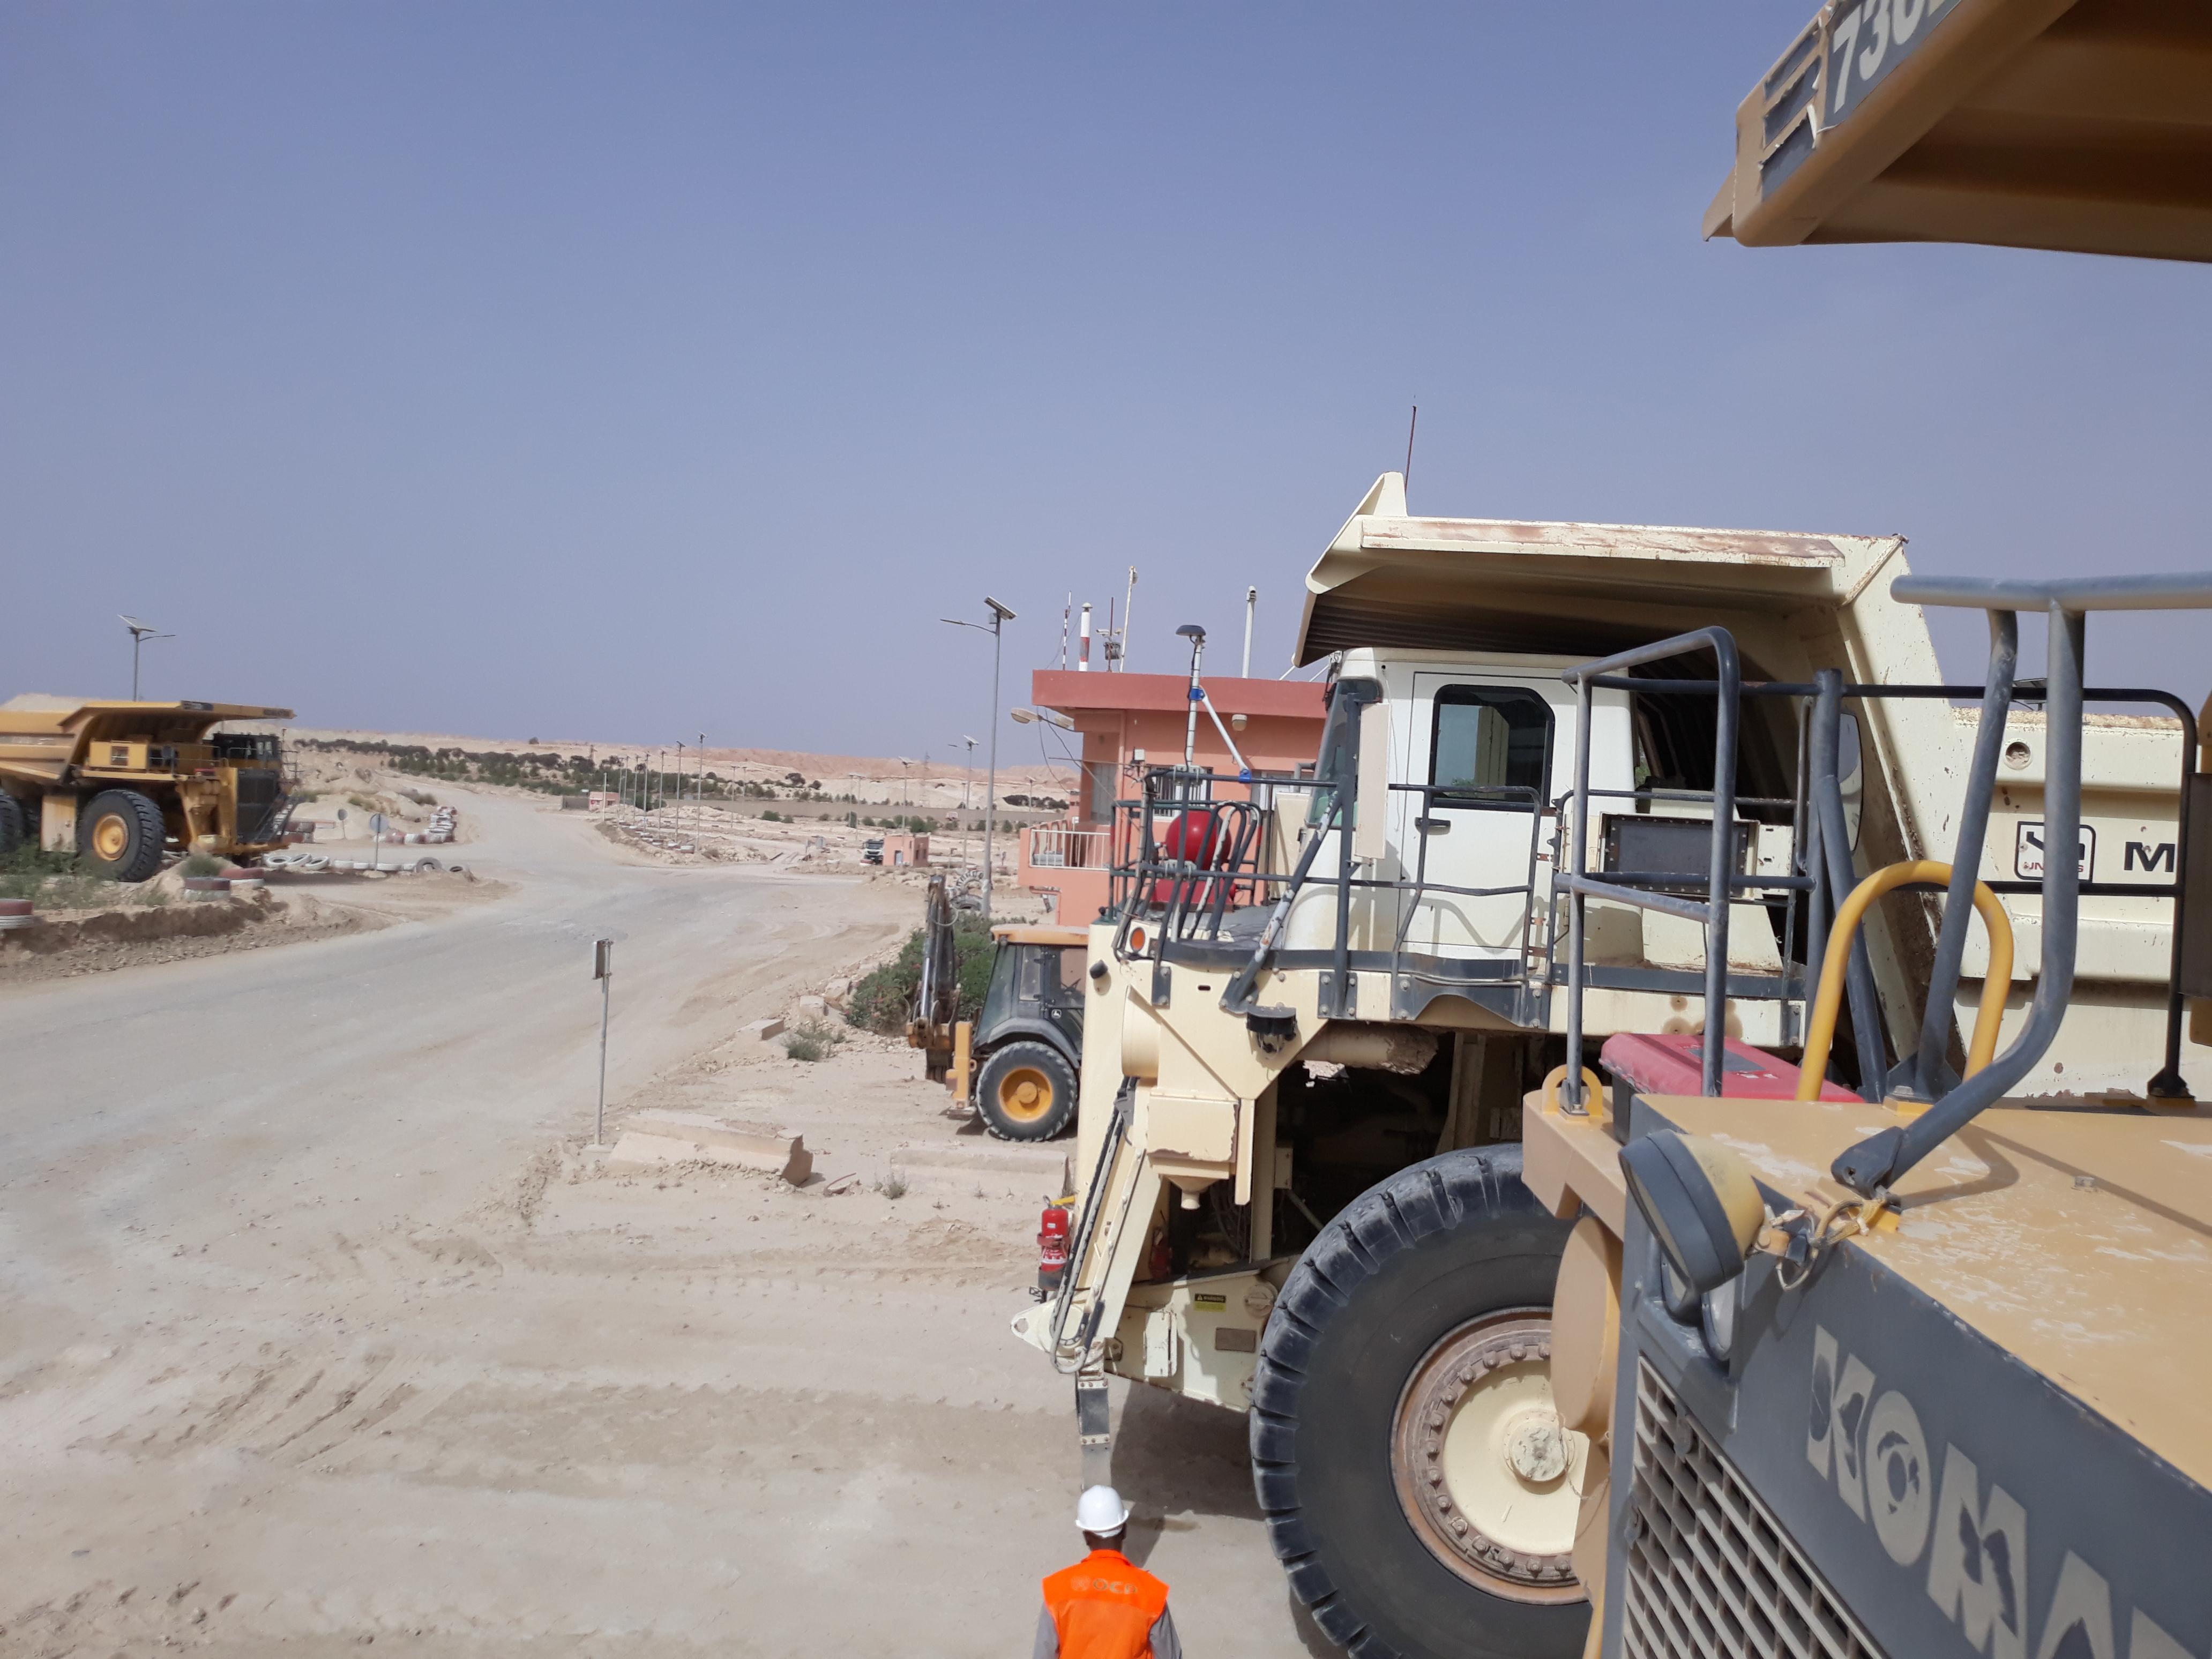camion: (1061, 451, 2212, 1648), (1, 682, 326, 918)
person: (1009, 1461, 1202, 1659)
